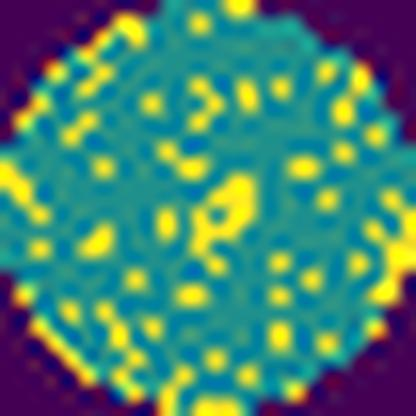Center: (181, 168, 266, 271)
